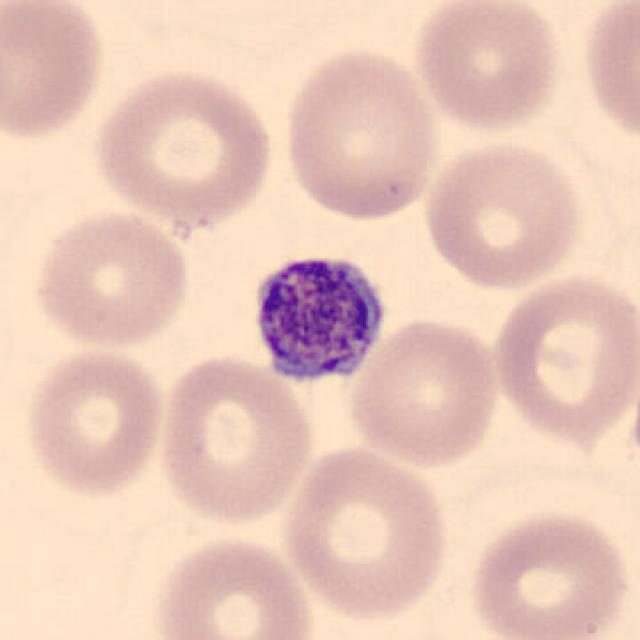Lymphocyte: (240, 242, 393, 393)
RBC: (277, 441, 453, 624), (87, 65, 279, 229), (277, 42, 443, 224), (153, 349, 316, 529), (487, 270, 638, 448), (418, 136, 586, 292), (343, 312, 505, 469), (27, 206, 194, 353), (20, 344, 170, 501), (464, 504, 633, 640), (409, 0, 567, 136), (147, 530, 320, 640), (0, 0, 110, 145), (576, 0, 640, 153)
